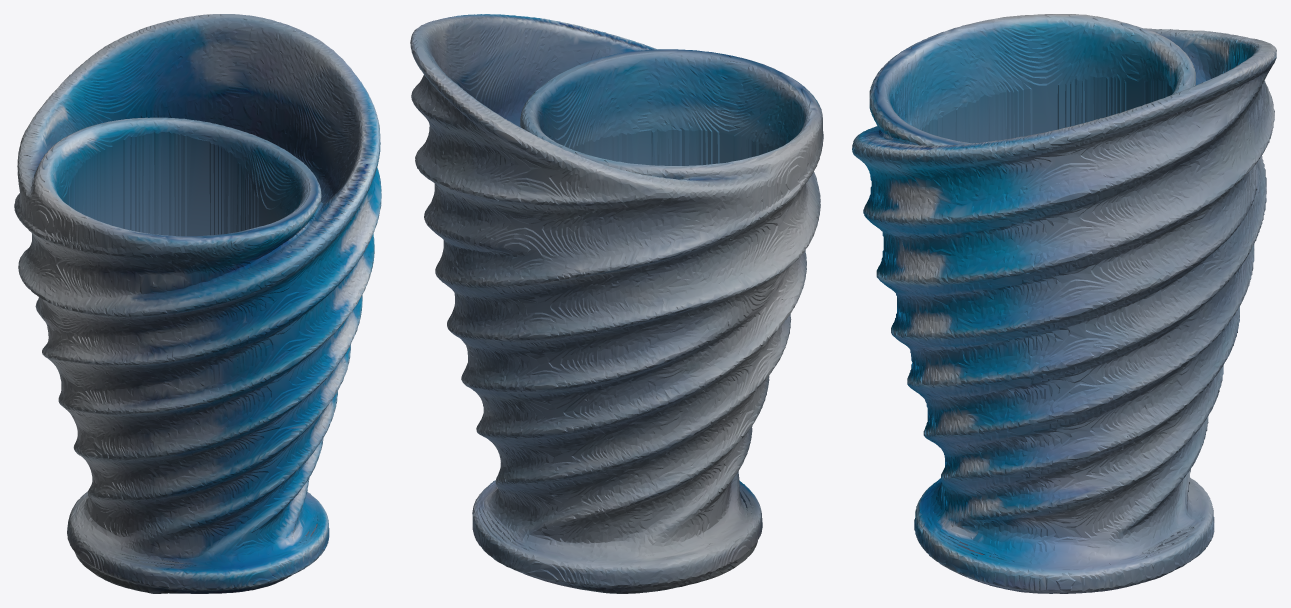
Rendered from H3-web.glb.
3 renders of one model, left to right at view 1: azimuth 30°, elevation 25°; view 2: azimuth 150°, elevation 25°; view 3: azimuth 270°, elevation 25°, orthographic. The views are drawn at different scales.
Visible parts, largest first — view 1: geometry_0; view 2: geometry_0; view 3: geometry_0.
Part boxes in pixels (<box>): geometry_0: <box>14,14,381,593</box>; geometry_0: <box>410,14,823,593</box>; geometry_0: <box>852,14,1276,593</box>.
Size of the model in its own units: 0.221 by 0.2998 by 0.2226.
